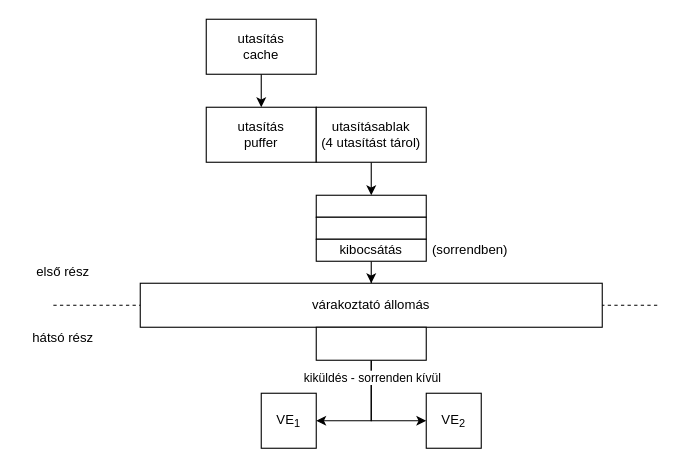
Image size: 678x468. Some labels were removed from this diagram. Here are the shapes that lost their labels. From the top down, the centre of each, then its label:
point (370, 205): lehívás
point (370, 227): dekódolás
point (370, 343): függőség ellenőrzés
